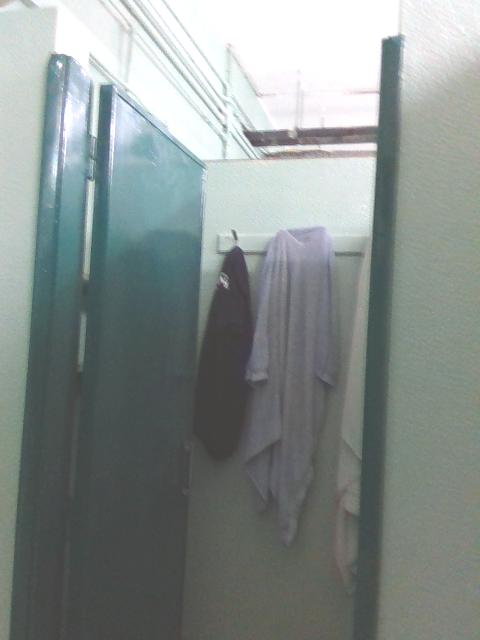open_door: (2, 29, 400, 639)
